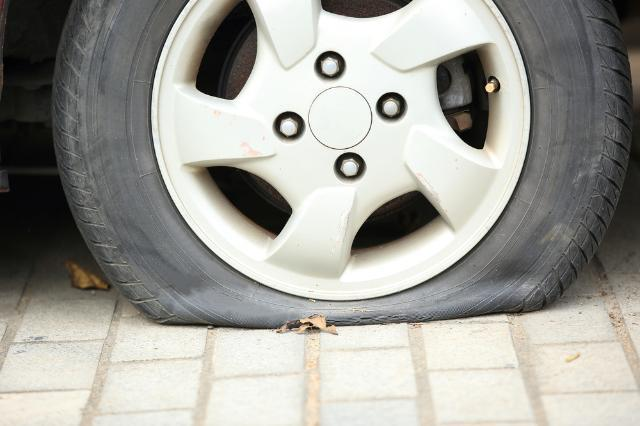tire flat: (52, 0, 631, 330)
